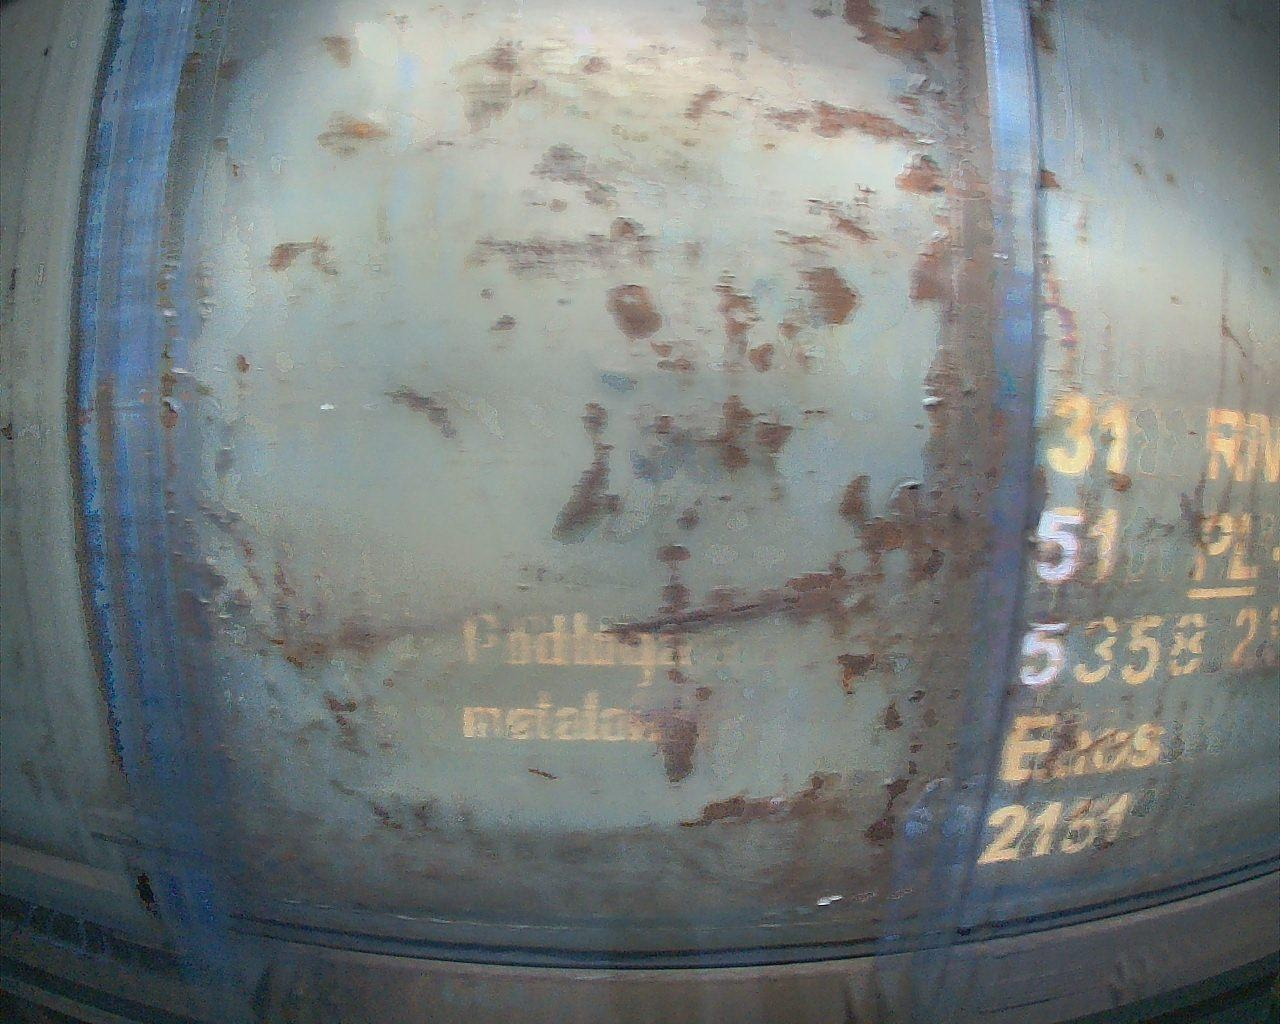UIC: (971, 392, 1280, 865)
